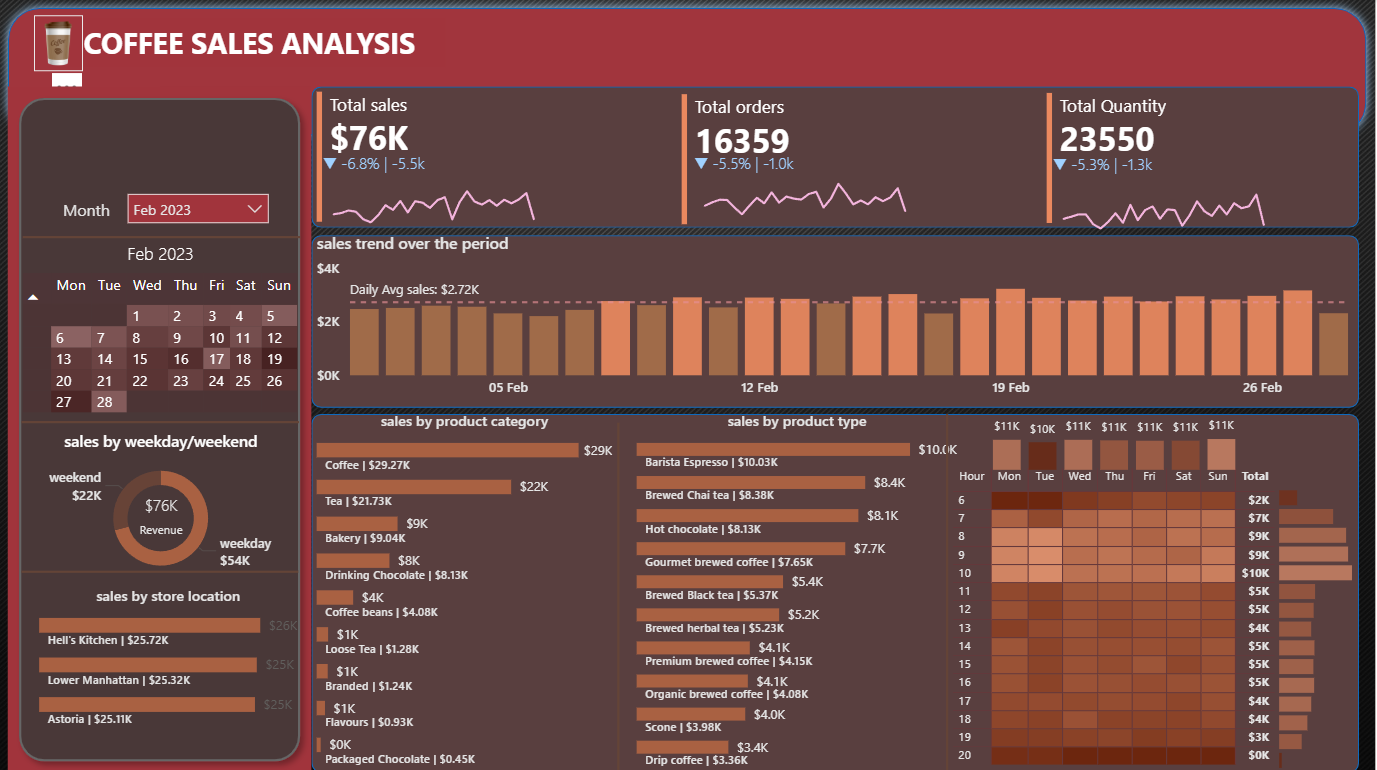

This screenshot's page, from the dashboard's own definition file:
{"tool":"powerbi","page":{"name":"Page 1","canvas":[1280,720],"ordinal":0},"visuals":[{"type":"shape","box":[0,0,1280.2,134.9],"z":0},{"type":"shape","box":[290.7,386,974.4,333.7],"z":1000},{"type":"textbox","box":[66.3,17.4,348.8,46.5],"z":2000},{"type":"image","box":[32.6,15.1,45.3,52.3],"z":3000},{"type":"shape","box":[8.1,81.4,282.6,638.4],"z":4000},{"type":"shape","box":[290.7,81.4,974.4,131.4],"z":5000},{"type":"cardVisual","fields":{"Data":["Sum(Coffee.toatal sales)"]},"box":[290.7,81.4,310.5,131.4],"z":6000,"group":"g3"},{"type":"cardVisual","fields":{"Data":["Coffee.Total Quantity"]},"box":[969.5,82.6,310.5,131.4],"z":6000,"group":"g4"},{"type":"cardVisual","fields":{"Data":["Coffee.Total orders"]},"box":[630.2,83.7,310.5,131.4],"z":6000,"group":"g2"},{"type":"slicer","fields":{"Values":["Table.month year"]},"box":[108.8,171.2,151.2,46.2],"z":6000},{"type":"group","id":"g1","title":"Group 1","box":[290.7,81.4,310.5,137.8],"z":7000},{"type":"lineChart","fields":{"Category":["Table.Date Hierarchy.Date"],"Y":["Sum(Coffee.total sales)"]},"box":[296.9,141.5,216.2,77.7],"z":7000,"group":"g3"},{"type":"lineChart","fields":{"Category":["Table.Date Hierarchy.Date"],"Y":["Coffee.Total orders"]},"box":[641.8,141.8,216.3,76.7],"z":7000,"group":"g2"},{"type":"lineChart","fields":{"Category":["Table.Date Hierarchy.Date"],"Y":["Coffee.Total Quantity"]},"box":[975.7,142.7,216.2,77.7],"z":7000,"group":"g4"},{"type":"group","id":"g2","title":"Group 3","box":[630.2,83.7,310.5,134.9],"z":8000},{"type":"group","id":"g3","title":"Group 2","box":[290.7,81.4,310.5,137.8],"z":8001,"group":"g1"},{"type":"group","id":"g4","title":"Group 4","box":[969.5,82.6,310.5,137.8],"z":9000},{"type":"pivotTable","fields":{"Rows":["Table.week num"],"Columns":["Table.week day"],"Values":["Min(Table.Day num)"]},"box":[22.1,250,258.1,151.2],"z":10000},{"type":"cardVisual","fields":{"Data":["Min(Table.month year)"]},"box":[77.9,198.8,145.3,66.3],"z":11000},{"type":"shape","box":[20.9,373.3,258.1,40.7],"z":12000},{"type":"shape","box":[22.1,201.2,258.1,40.7],"z":13000},{"type":"donutChart","title":"sales by weekday/weekend","fields":{"Category":["Table.day type"],"Y":["Coffee.totalsalesm"]},"box":[26,401,250,144],"z":14000},{"type":"card","fields":{"Values":["Coffee.totalsalesm"]},"box":[93.8,451.2,113.8,61.2],"z":15000},{"type":"shape","box":[21.2,512.5,257.5,40],"z":16000},{"type":"clusteredBarChart","title":"sales by store location","fields":{"Category":["Coffee.store_location"],"Y":["Coffee.totalsalesm","Coffee.Placeholder"]},"box":[32.5,545,250,138.8],"z":17000},{"type":"shape","box":[290.7,219.8,974.4,160.5],"z":18000},{"type":"columnChart","title":"sales trend over the period","fields":{"Category":["Coffee.transaction_date"],"Y":["Coffee.totalsalesm"]},"box":[290.7,216.3,974.4,164],"z":19000},{"type":"clusteredBarChart","title":"sales by product category","fields":{"Category":["Coffee.product_category"],"Y":["Coffee.totalsalesm","Coffee.Placeholder"]},"box":[290.7,382.6,284.9,337.2],"z":20000},{"type":"shape","box":[527.9,394.2,96.5,325.6],"z":21000},{"type":"clusteredBarChart","title":"sales by product type","fields":{"Category":["Coffee.product_type"],"Y":["Coffee.totalsalesm","Coffee.Placeholder"]},"box":[588.4,382.6,308.1,337.2],"z":22000},{"type":"shape","box":[833.7,386,96.5,333.7],"z":23000},{"type":"pivotTable","fields":{"Rows":["Coffee.Hour"],"Columns":["Table.week day"],"Values":["Coffee.totalsalesm"]},"box":[882.6,431.4,309.3,288.4],"z":23001},{"type":"clusteredBarChart","fields":{"Category":["Coffee.Hour"],"Y":["Coffee.totalsalesm"]},"box":[1186.2,443.8,80,276.2],"z":23002},{"type":"clusteredColumnChart","fields":{"Category":["Table.week day"],"Y":["Coffee.totalsalesm"]},"box":[920,377.5,236.2,66.2],"z":23003},{"type":"textbox","box":[55,181.2,65,33.8],"z":23004}]}

Visuals, with their boxes in screenshot pixels (x1, y1, x2, y2), scaled from the page's 1280x720 canvas onto the 1377x770 screenshot:
shape: x1=0 y1=0 x2=1376 y2=144
shape: x1=313 y1=413 x2=1361 y2=769
textbox: x1=71 y1=19 x2=447 y2=68
image: x1=35 y1=16 x2=84 y2=72
shape: x1=9 y1=87 x2=313 y2=769
shape: x1=313 y1=87 x2=1361 y2=228
cardVisual - Sum(Coffee.toatal sales): x1=313 y1=87 x2=647 y2=228
cardVisual - Coffee.Total Quantity: x1=1043 y1=88 x2=1376 y2=229
cardVisual - Coffee.Total orders: x1=678 y1=90 x2=1012 y2=230
slicer - Table.month year: x1=117 y1=183 x2=280 y2=232
"Group 1" group: x1=313 y1=87 x2=647 y2=234
lineChart - Table.Date Hierarchy.Date x Sum(Coffee.total sales): x1=319 y1=151 x2=552 y2=234
lineChart - Table.Date Hierarchy.Date x Coffee.Total orders: x1=690 y1=152 x2=923 y2=234
lineChart - Table.Date Hierarchy.Date x Coffee.Total Quantity: x1=1050 y1=153 x2=1282 y2=236
"Group 3" group: x1=678 y1=90 x2=1012 y2=234
"Group 2" group: x1=313 y1=87 x2=647 y2=234
"Group 4" group: x1=1043 y1=88 x2=1376 y2=236
pivotTable - Table.week num x Table.week day: x1=24 y1=267 x2=301 y2=429
cardVisual - Min(Table.month year): x1=84 y1=213 x2=240 y2=284
shape: x1=22 y1=399 x2=300 y2=443
shape: x1=24 y1=215 x2=301 y2=259
"sales by weekday/weekend" donutChart: x1=28 y1=429 x2=297 y2=583
card - Coffee.totalsalesm: x1=101 y1=483 x2=223 y2=548
shape: x1=23 y1=548 x2=300 y2=591
"sales by store location" clusteredBarChart: x1=35 y1=583 x2=304 y2=731
shape: x1=313 y1=235 x2=1361 y2=407
"sales trend over the period" columnChart: x1=313 y1=231 x2=1361 y2=407
"sales by product category" clusteredBarChart: x1=313 y1=409 x2=619 y2=769
shape: x1=568 y1=422 x2=672 y2=769
"sales by product type" clusteredBarChart: x1=633 y1=409 x2=964 y2=769
shape: x1=897 y1=413 x2=1001 y2=769
pivotTable - Coffee.Hour x Table.week day: x1=949 y1=461 x2=1282 y2=769
clusteredBarChart - Coffee.Hour x Coffee.totalsalesm: x1=1276 y1=475 x2=1362 y2=769
clusteredColumnChart - Table.week day x Coffee.totalsalesm: x1=990 y1=404 x2=1244 y2=475
textbox: x1=59 y1=194 x2=129 y2=230
